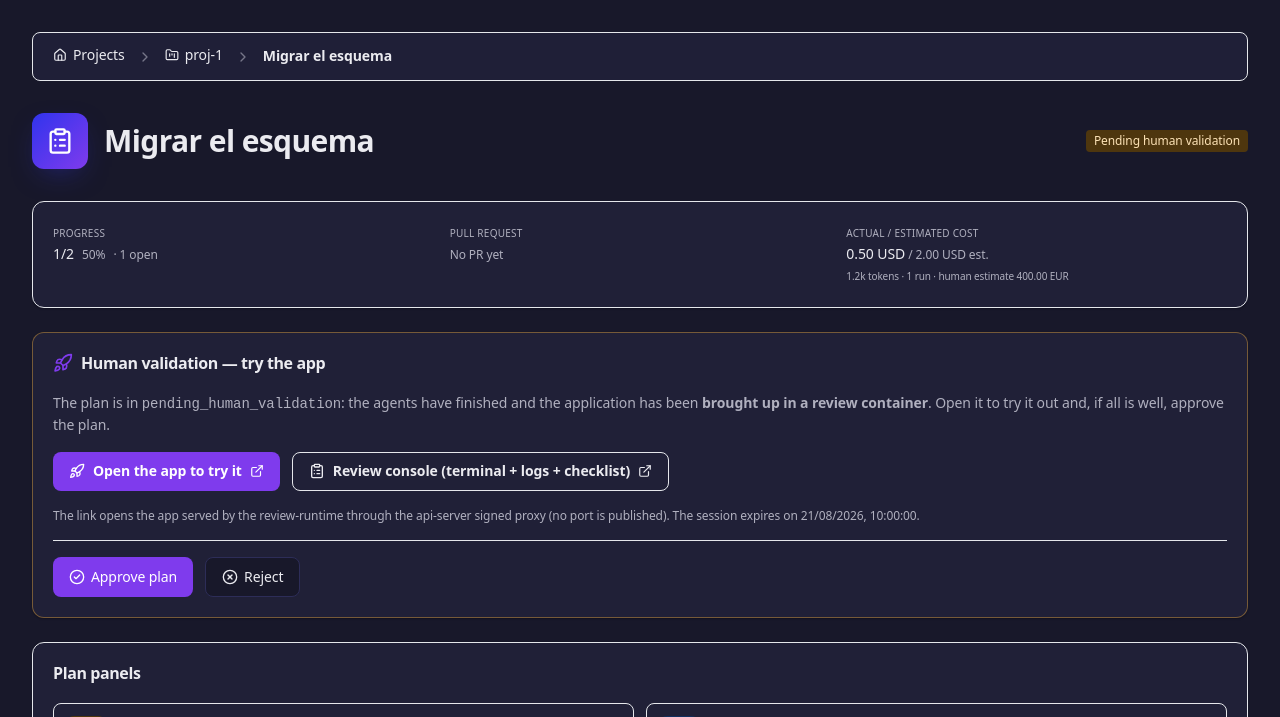
Scenario: detalle del plan en los dos idiomas › traduce la validación humana y su diálogo de rechazo
expect the element with test id "plan-human-validation" shows "Human validation — try the app": met, box [81,352,325,374]
expect the element with test id "plan-human-validation" shows "brought up in a review container": met, box [702,393,928,412]
Click the button with test id "plan-verdict-reject": (253, 577) [205,557,300,597]
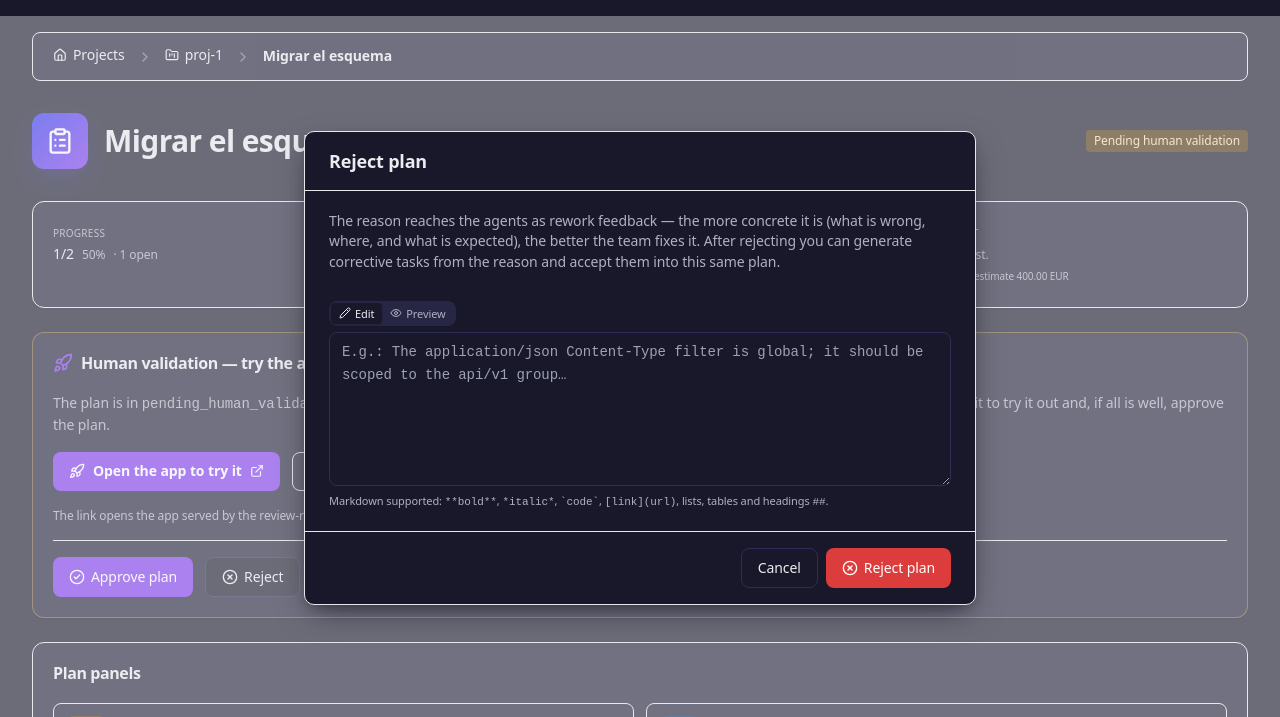
expect the element with test id "plan-reject-dialog" is shown: met, box [304,130,976,606]
expect the number of headings "Reject plan" is 2: met, box [329,148,427,172]; [826,548,951,588]
expect the text "The reason reaches the agents as rework feedback" is shown: met, box [329,210,925,271]
